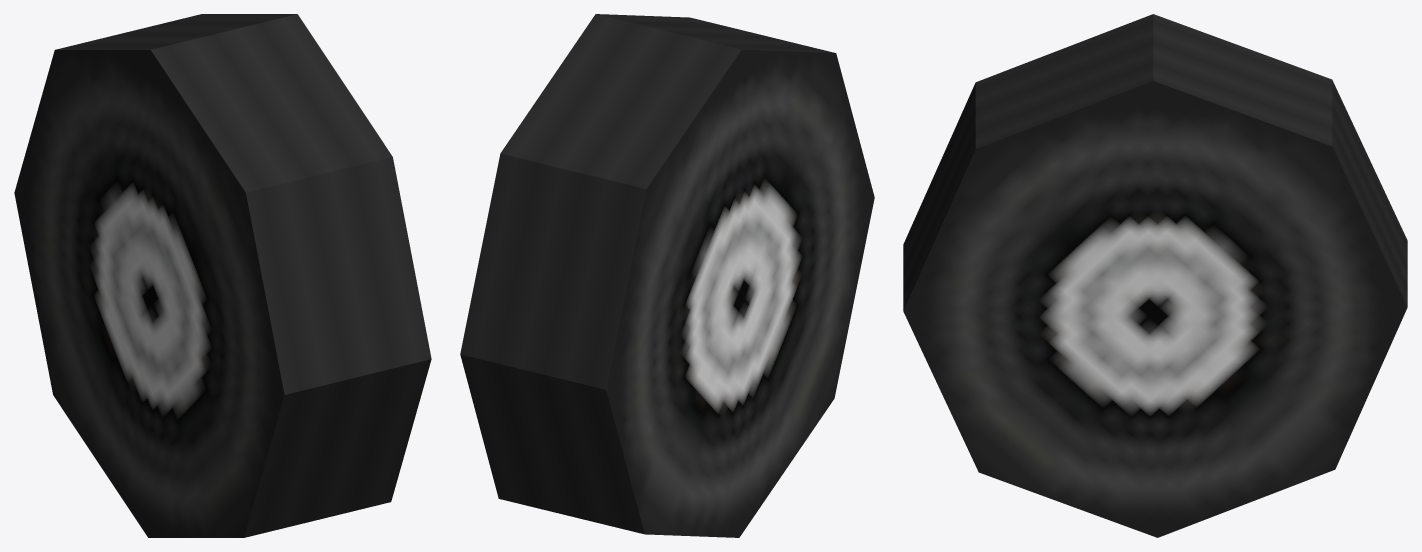
File: Wheel5Alternate.obj
3 views of the same model, side by side, from view 1: azimuth 30°, elevation 25°; view 2: azimuth 150°, elevation 25°; view 3: azimuth 270°, elevation 25° (orthographic). The views are drawn at different scales.
Parts seen in each view (by area): view 1: Car5_Police.001; view 2: Car5_Police.001; view 3: Car5_Police.001.
Part boxes in pixels (box(x1,y1,x2,y2)): Car5_Police.001: box(14, 14, 431, 537); Car5_Police.001: box(460, 14, 874, 537); Car5_Police.001: box(903, 14, 1407, 537).
Size of the model in its own units: 0.3187 by 1.01 by 1.01.
Materials: 1 (1 with a texture image).
